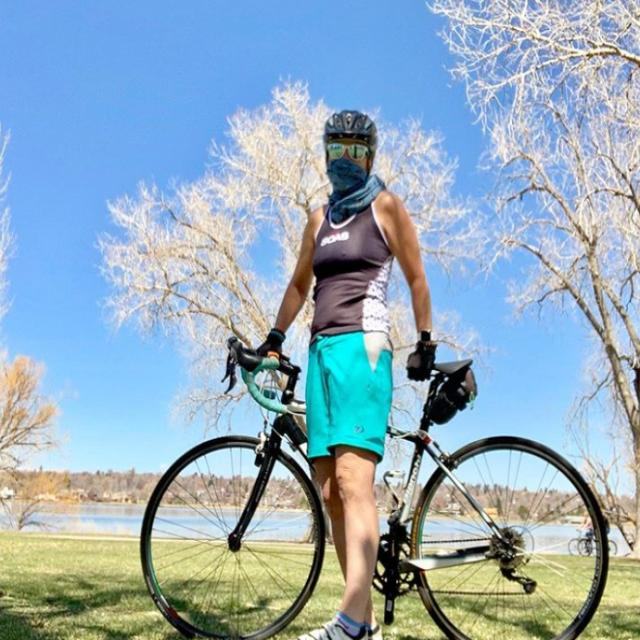hat: (321, 109, 377, 141)
